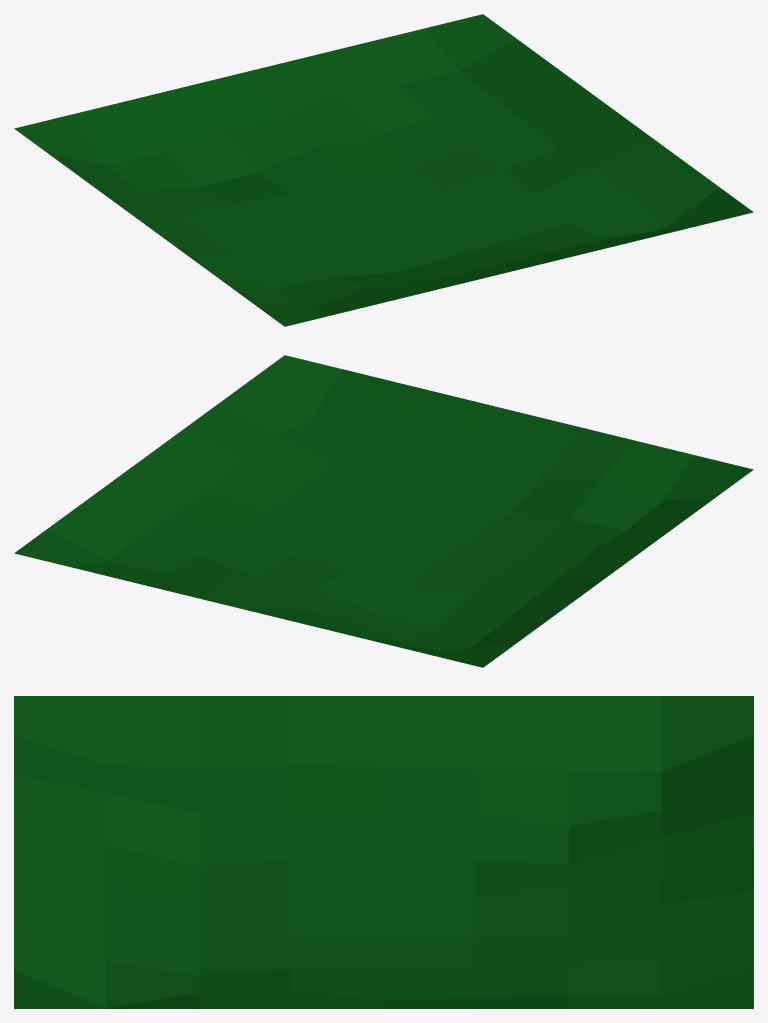
The model's file is GraveyardGroundFBX.fbx.
3 renders of one model, top to bottom at view 1: azimuth 30°, elevation 25°; view 2: azimuth 150°, elevation 25°; view 3: azimuth 270°, elevation 25°, orthographic. The views are drawn at different scales.
Visible parts, largest first — view 1: Plane; view 2: Plane; view 3: Plane.
Part boxes in pixels (x1=…): Plane: x1=14, y1=14, x2=753, y2=326; Plane: x1=14, y1=355, x2=753, y2=667; Plane: x1=14, y1=696, x2=753, y2=1008.
Size of the model in its own units: 80000 by 6268 by 80000.
